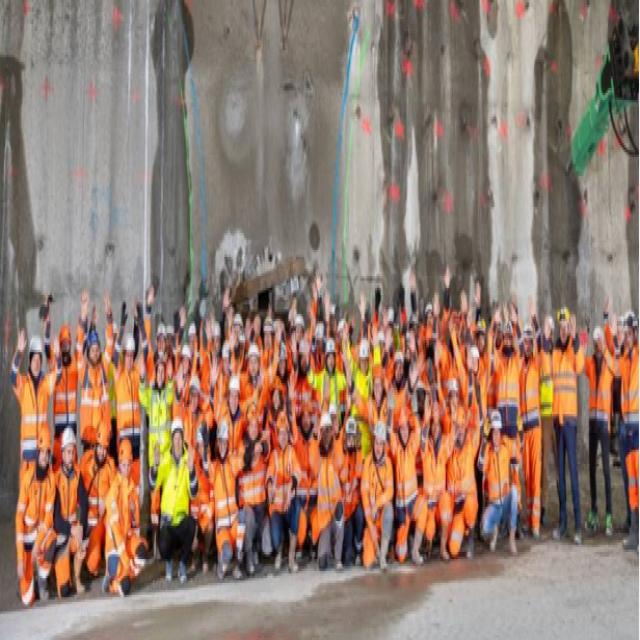hard_hat: (95, 419, 109, 468), (61, 427, 76, 472), (58, 323, 73, 365), (372, 419, 386, 464), (29, 335, 43, 379), (556, 305, 571, 345), (623, 312, 639, 347), (86, 329, 101, 366), (171, 418, 184, 460), (119, 438, 132, 480), (276, 411, 290, 450), (216, 419, 229, 460), (397, 407, 410, 448), (122, 332, 136, 370), (299, 397, 313, 433), (320, 412, 332, 452), (345, 418, 358, 454), (454, 405, 466, 444), (521, 324, 535, 356), (105, 321, 118, 355), (246, 404, 259, 438), (429, 408, 442, 442), (229, 376, 240, 416), (247, 343, 259, 379), (358, 337, 370, 372), (271, 374, 282, 412), (490, 411, 502, 444), (501, 320, 514, 350), (262, 314, 273, 347), (156, 323, 167, 354), (190, 378, 200, 412), (448, 377, 459, 407), (593, 326, 603, 357), (394, 351, 404, 382), (326, 338, 336, 369), (212, 318, 221, 352), (181, 344, 191, 374), (294, 314, 305, 341), (617, 314, 625, 348), (470, 347, 480, 372), (233, 313, 243, 336), (426, 302, 434, 329), (338, 319, 348, 340)
